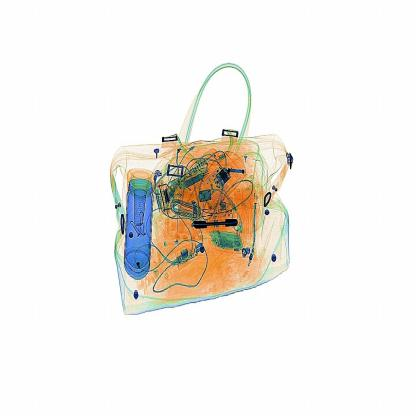knife: (183, 213, 246, 236)
